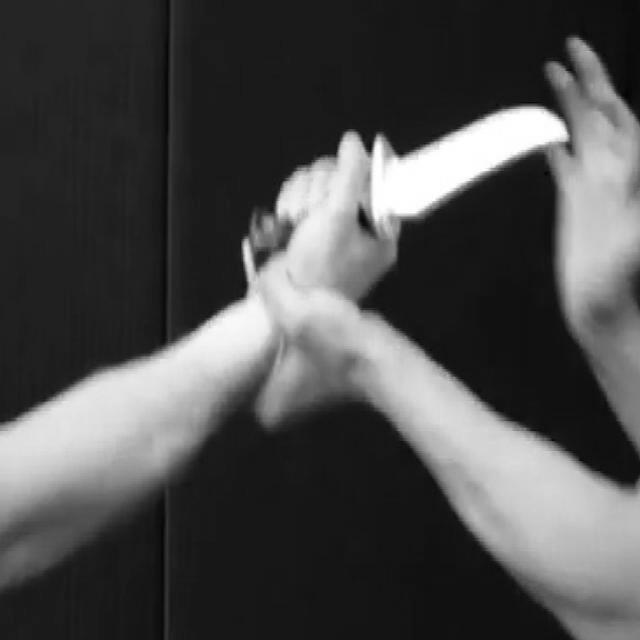weapon: (362, 97, 573, 239), (237, 202, 292, 262)
